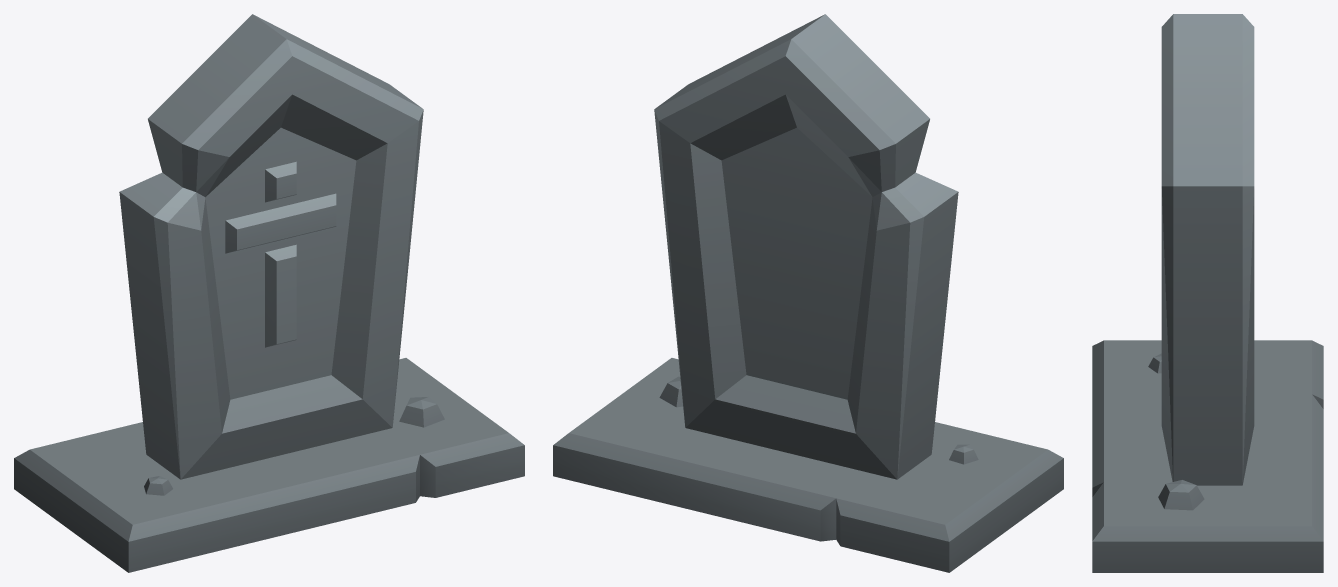
File: grave_B.glb
3 renders of one model, left to right at view 1: azimuth 30°, elevation 25°; view 2: azimuth 150°, elevation 25°; view 3: azimuth 270°, elevation 25°, orthographic.
Parts seen in each view (by area): view 1: grave_B; view 2: grave_B; view 3: grave_B.
Boxes of the visible parts, x1,y1,x2,y2 form: grave_B: (14, 14, 524, 572); grave_B: (553, 14, 1063, 572); grave_B: (1092, 14, 1323, 572).
Bounding box in the file's own units: 2 × 2.2 × 1.
1 material, 1 textured.
